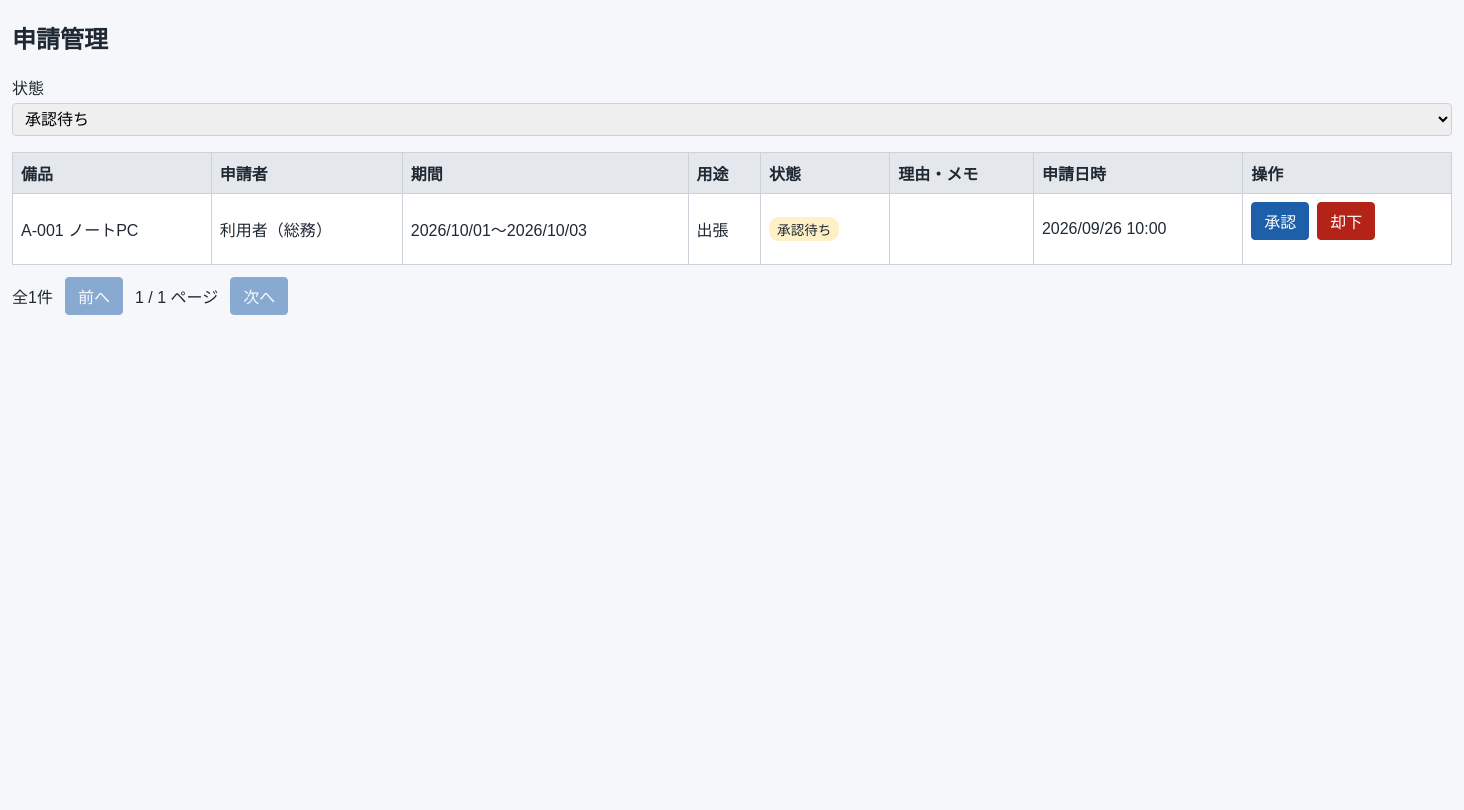
it: 申請管理画面 › 項番11：状態の絞り込みを変更すると、前回の操作結果メッセージが消える
Step 1. Click the button "却下" → x=1346, y=221, box [1317, 202, 1375, 240]
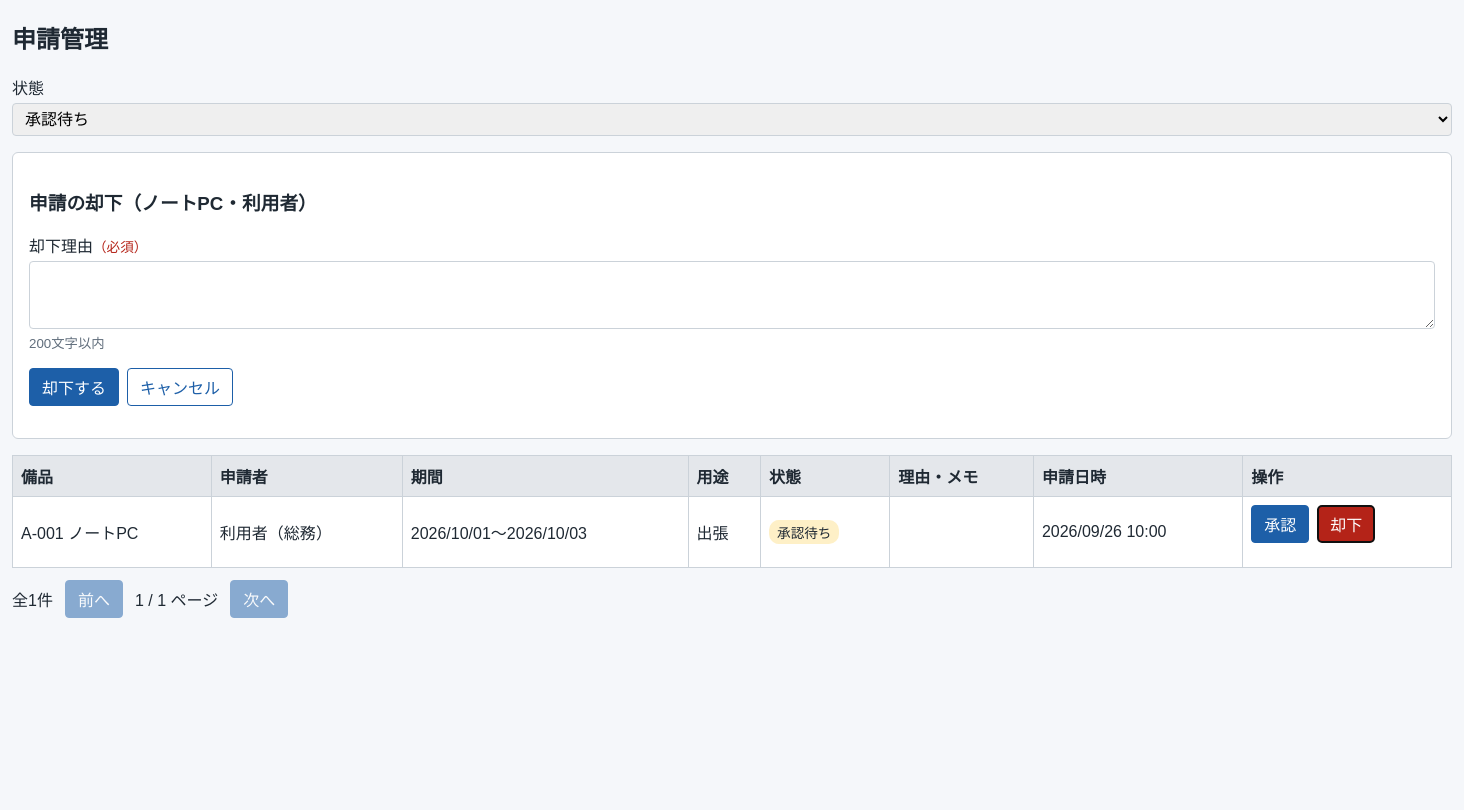
Step 2. Type "在庫なし" into the text box labelled "却下理由（必須）" → x=732, y=295, box [29, 261, 1435, 329]
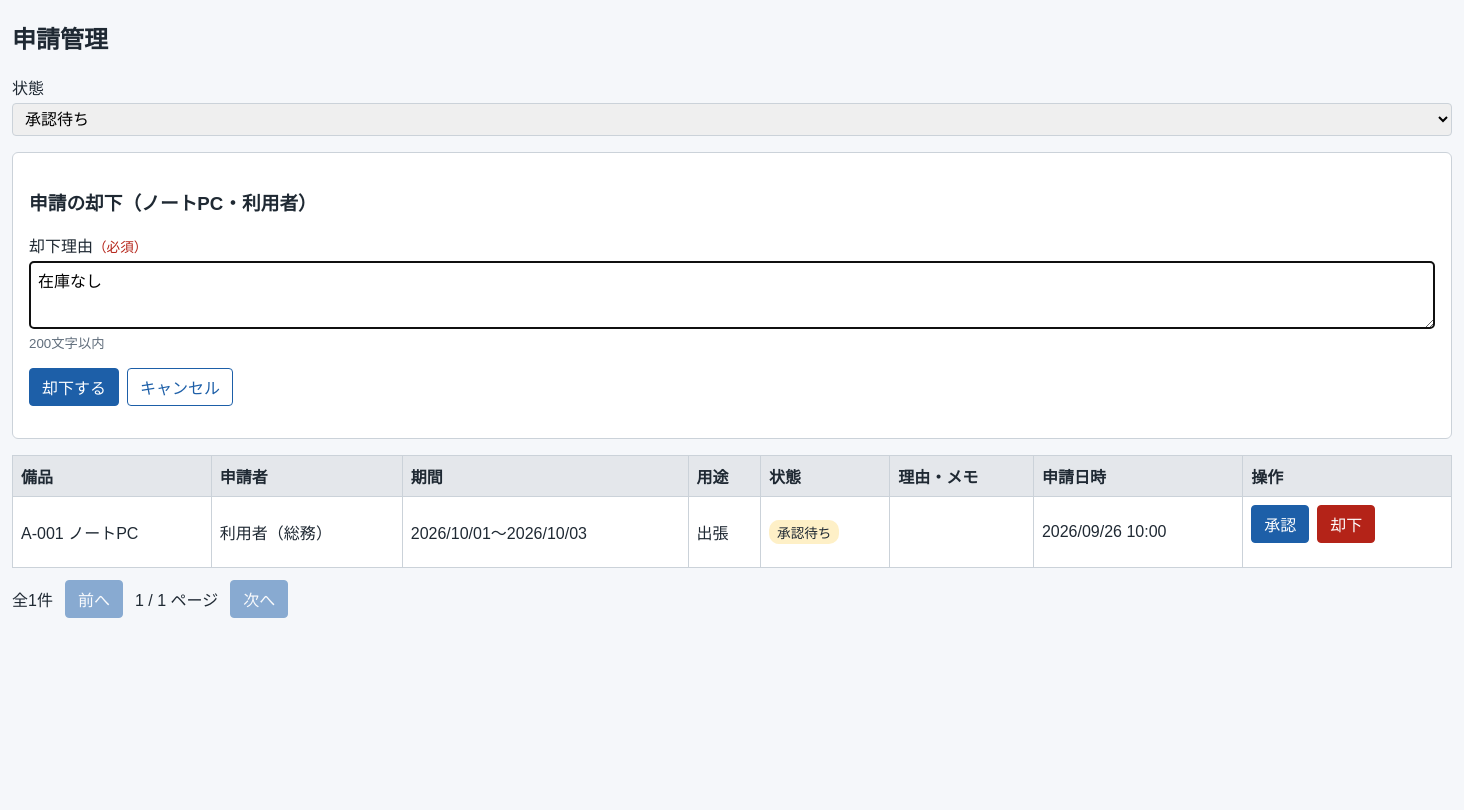
Step 3. Click the button "却下する" → x=74, y=387, box [29, 368, 119, 406]
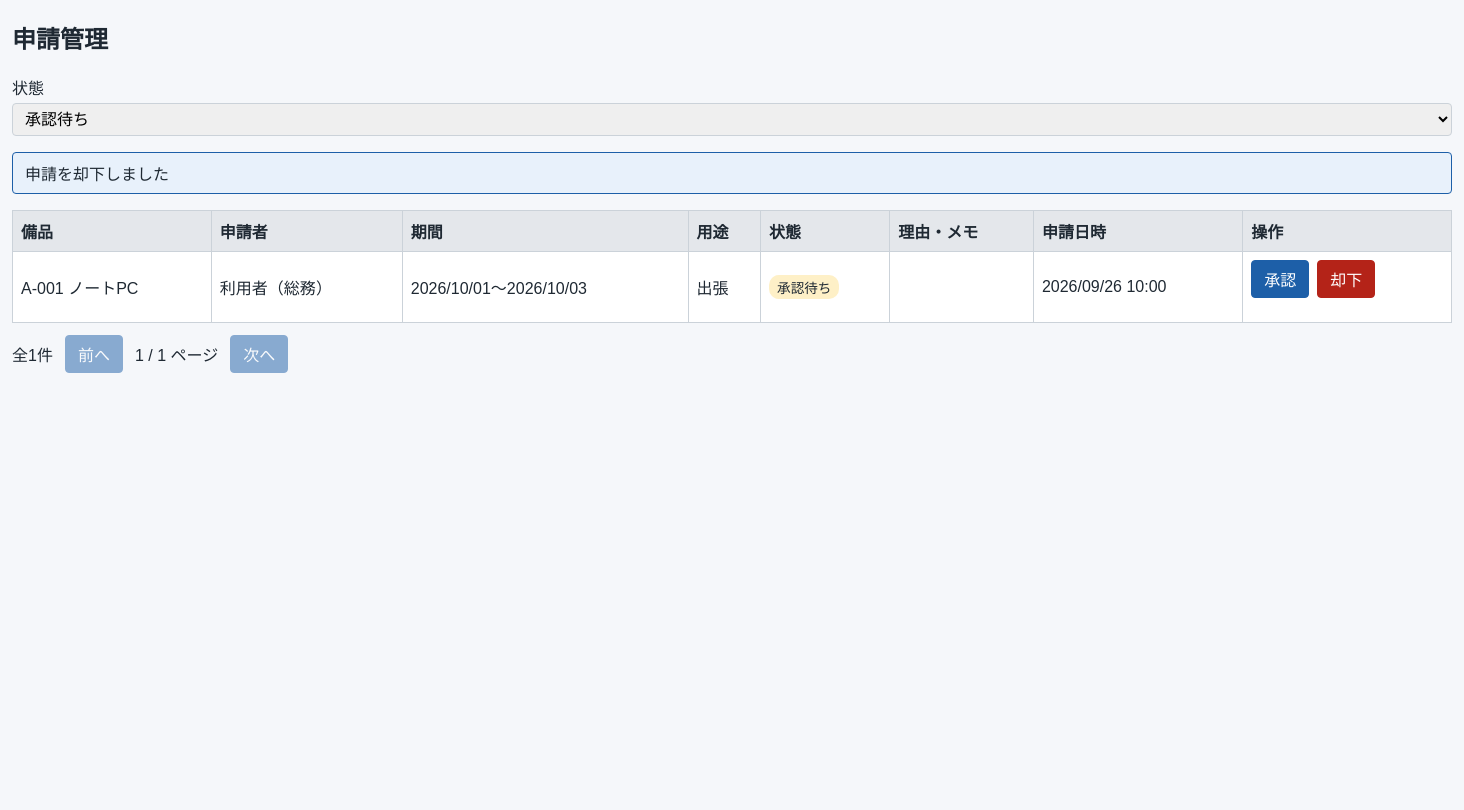
Expected: the message reads "申請を却下しました", [25, 166, 169, 183]
状態を切り替える（「状態」の選択欄を「承認済み」へ）
Step 4. Select "承認済み" in the dropdown labelled "状態" → x=732, y=119, box [12, 103, 1452, 136]
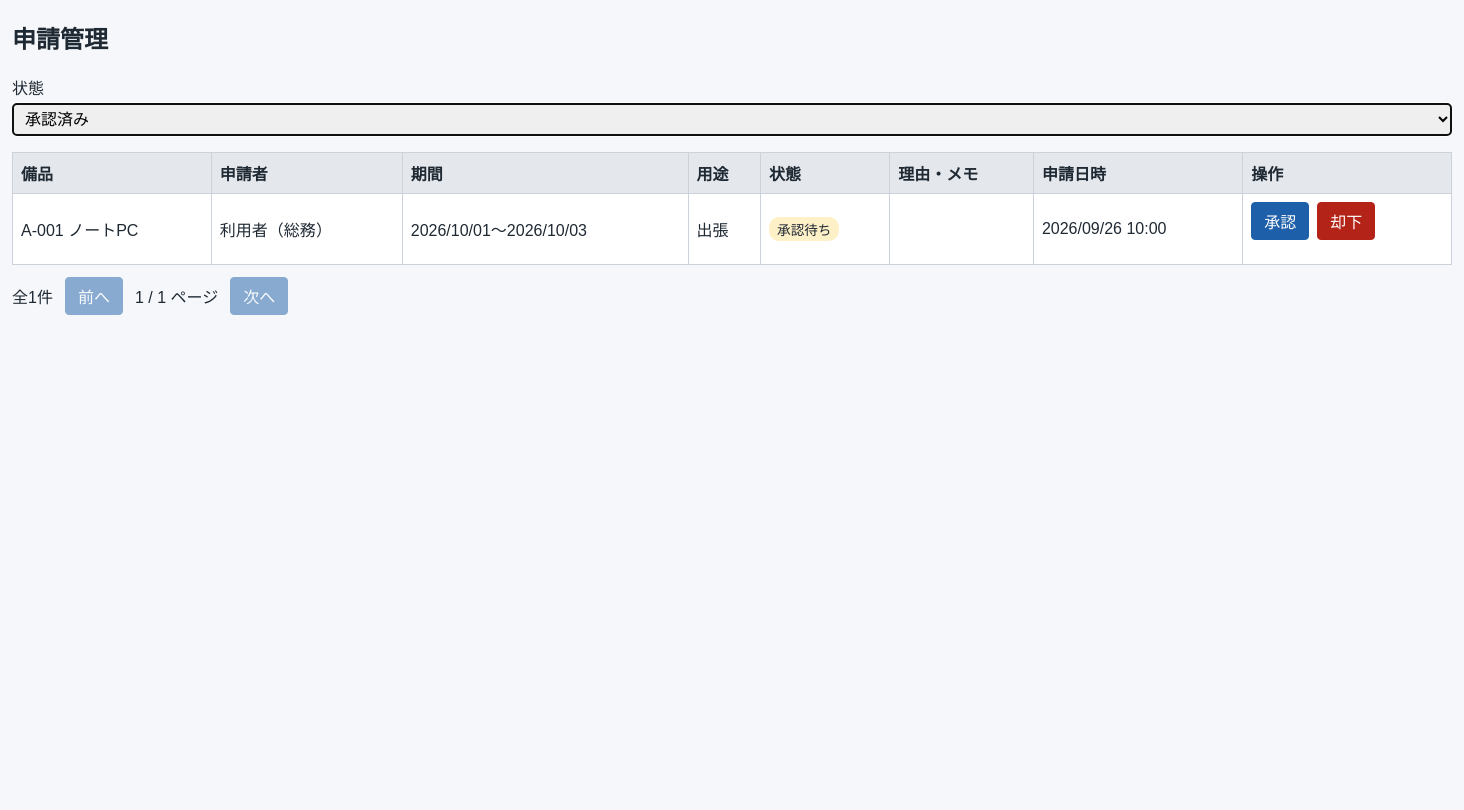
Expected: the message "申請を却下しました" is gone
